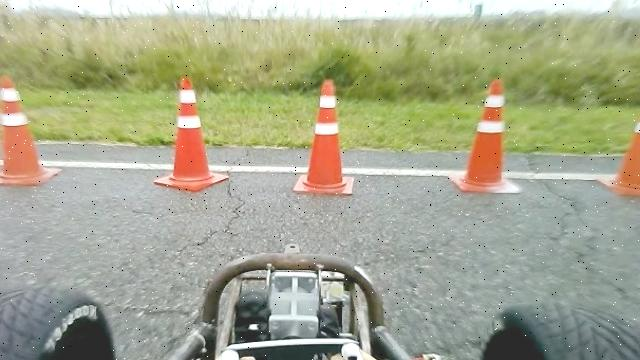red cone: (153, 75, 230, 192), (449, 77, 522, 194), (292, 78, 355, 195), (0, 74, 62, 186), (597, 100, 640, 195)
